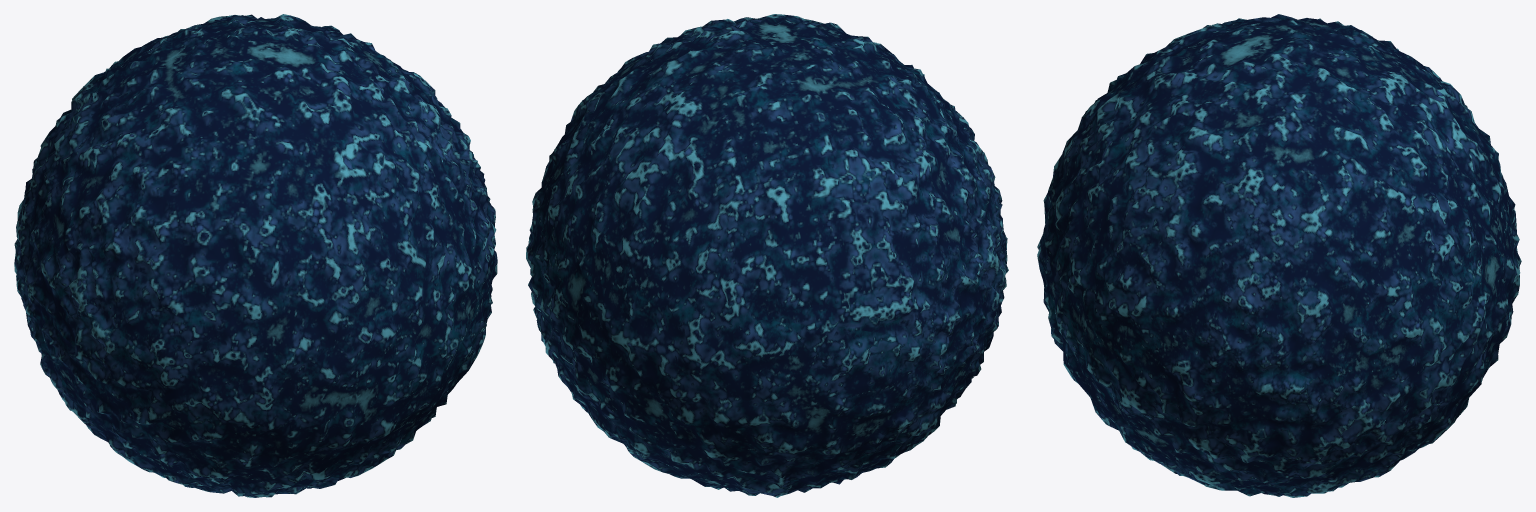
Rendered from cell02.fbx.
3 renders of one model, left to right at view 1: azimuth 30°, elevation 25°; view 2: azimuth 150°, elevation 25°; view 3: azimuth 270°, elevation 25°, orthographic.
Parts seen in each view (by area): view 1: CEII_05_02_UV:ZBrush_defualt_group; view 2: CEII_05_02_UV:ZBrush_defualt_group; view 3: CEII_05_02_UV:ZBrush_defualt_group.
Boxes of the visible parts, left/top/right/bottom form: CEII_05_02_UV:ZBrush_defualt_group: left=14, top=14, right=497, bottom=497; CEII_05_02_UV:ZBrush_defualt_group: left=526, top=14, right=1008, bottom=497; CEII_05_02_UV:ZBrush_defualt_group: left=1037, top=14, right=1521, bottom=497.
Bounding box in the file's own units: 2.03 × 2.03 × 2.04.
